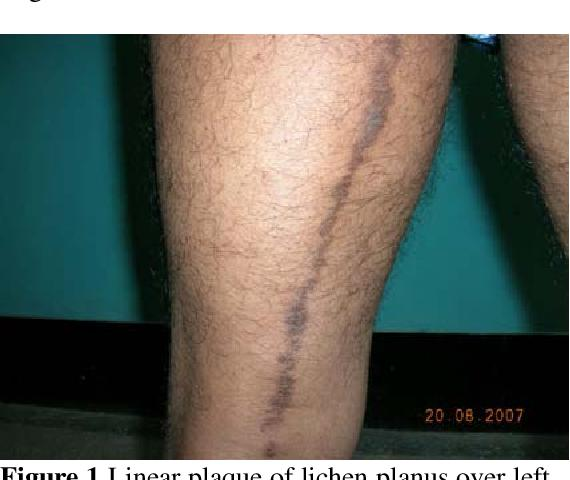linear lichen planus: (249, 121, 370, 438)
